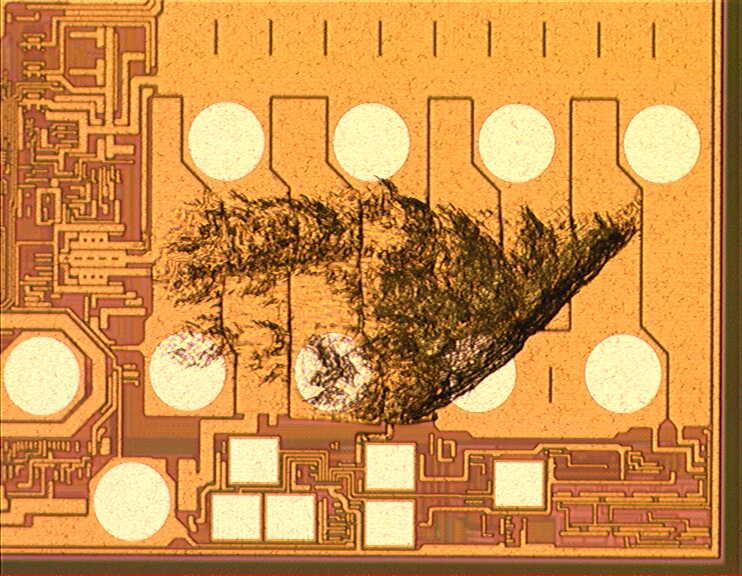SCRATCH: (141, 177, 652, 446)
